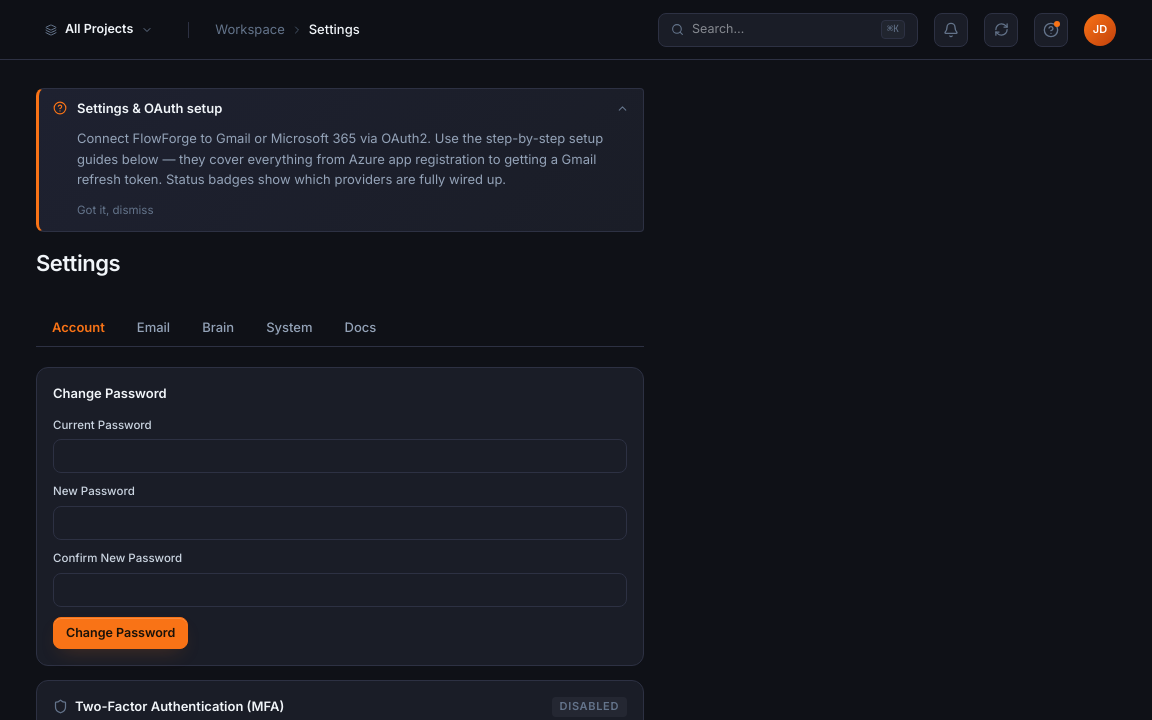
Settings › shows the Documentation links under the Docs tab
What coordinates should you click on to do the following:
click the button "Docs"
I would click on:
 (360, 327)
Its box is [328,308,392,347].
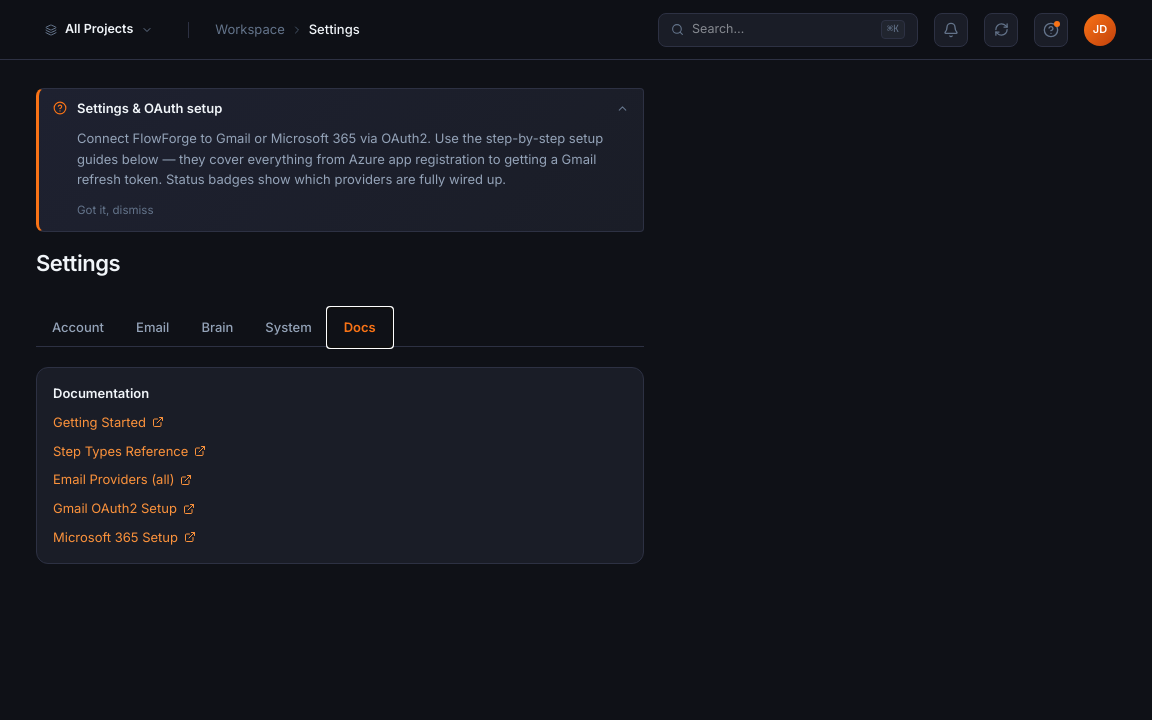
Now the text "Documentation" is shown, box [53,385,149,401]
Now the link "Getting Started" is shown, box [53,414,164,430]
